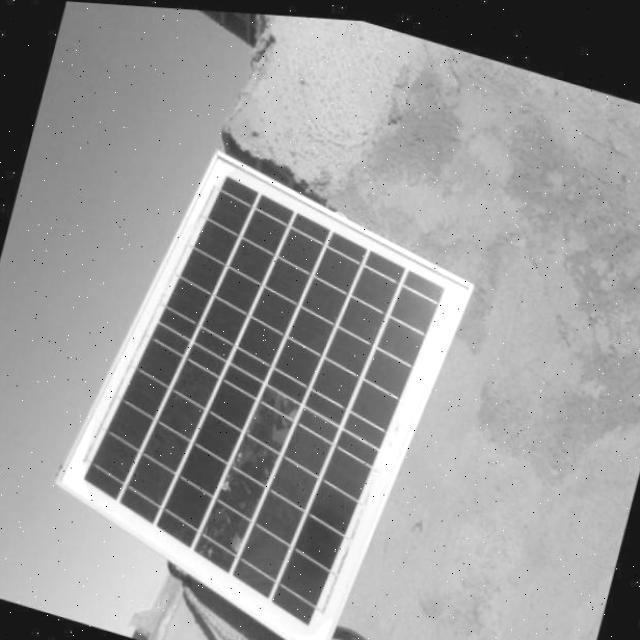Normal Solar Panel: (35, 122, 488, 640)
